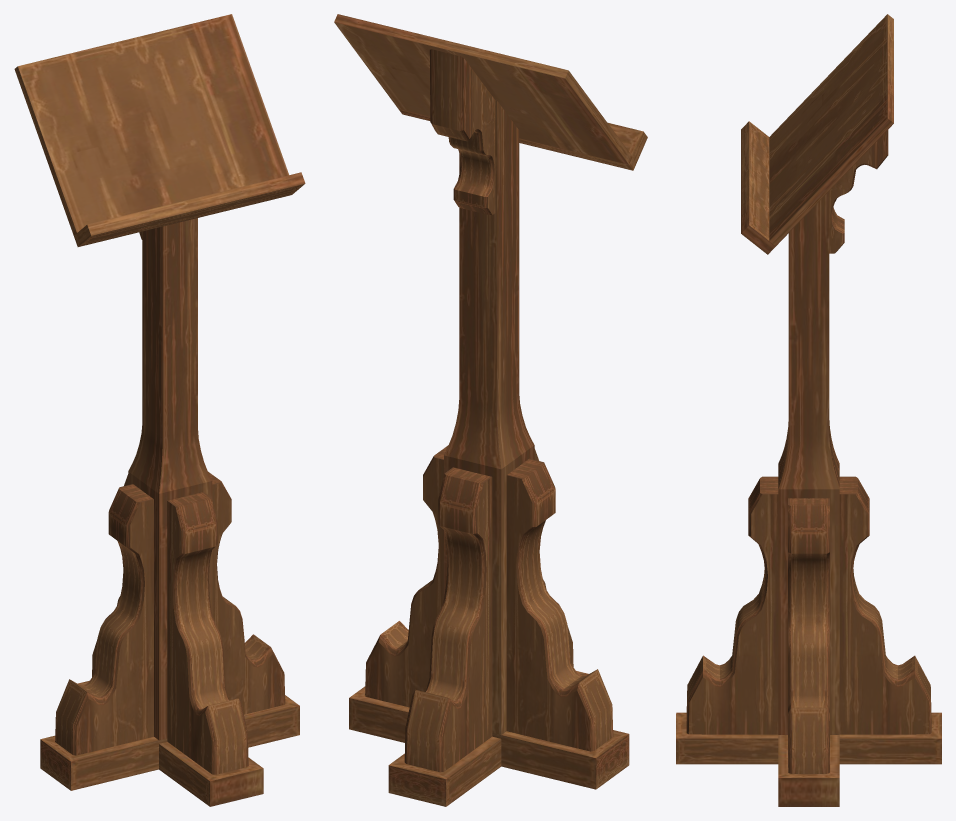
Rendered from prop_bookstand.glb.
3 views of the same model, side by side, from view 1: azimuth 30°, elevation 25°; view 2: azimuth 150°, elevation 25°; view 3: azimuth 270°, elevation 25° (orthographic). The views are drawn at different scales.
Visible parts, largest first — view 1: BookStand; view 2: BookStand; view 3: BookStand.
Part boxes in pixels (<box>): BookStand: <box>14,14,305,806</box>; BookStand: <box>334,14,647,806</box>; BookStand: <box>676,14,941,806</box>.
Size of the model in its own units: 0.5071 by 1.45 by 0.5112.
Materials: 1 (1 with a texture image).
